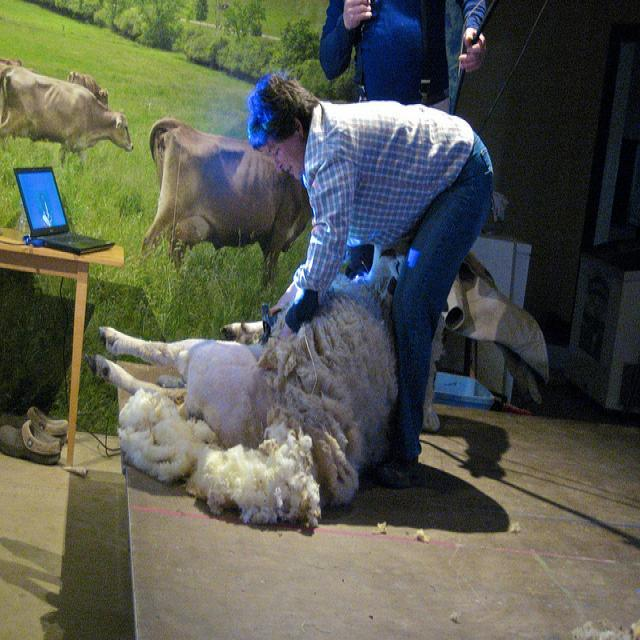cow: (135, 117, 312, 287), (0, 63, 132, 164), (66, 70, 107, 106), (0, 56, 20, 69)
